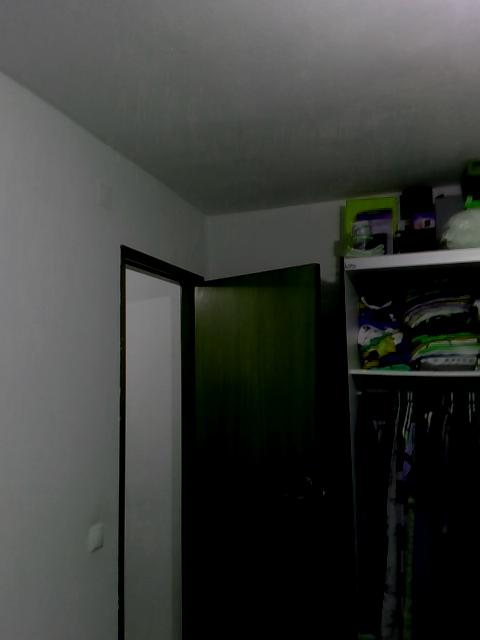open_door: (117, 242, 205, 638)
